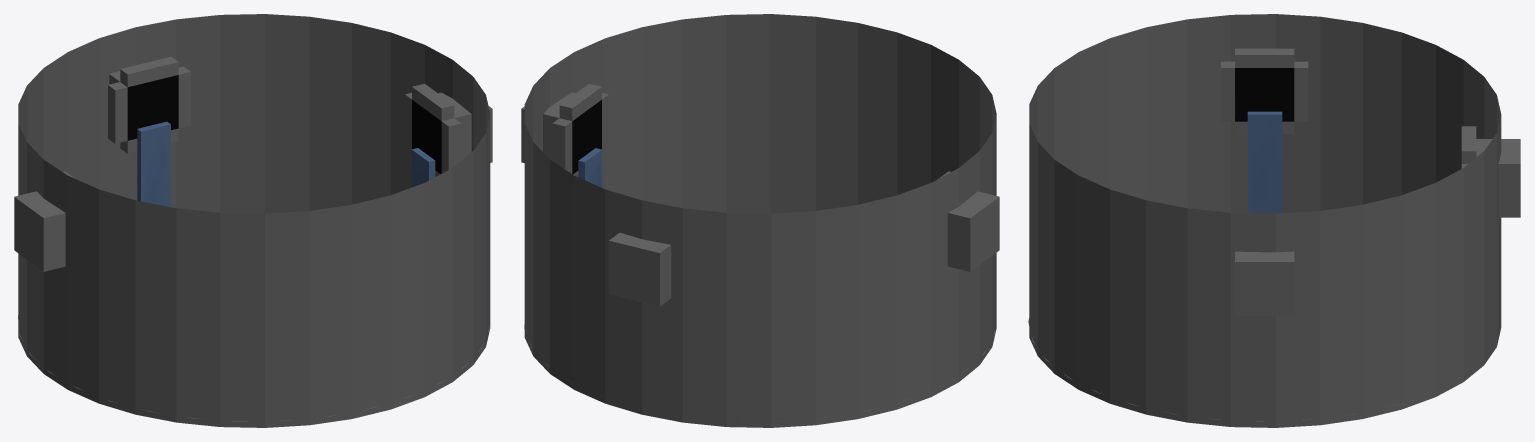
File: Sewer Boss Level.fbx
3 views of the same model, side by side, from view 1: azimuth 30°, elevation 25°; view 2: azimuth 150°, elevation 25°; view 3: azimuth 270°, elevation 25° (orthographic).
Visible parts, largest first — view 1: Cylinder, Cube.002, Cube, Cube.001, Cube.003, Cube.004; view 2: Cylinder, Cube, Cube.002, Cube.001, Cube.004; view 3: Cylinder, Cube.001, Cube, Cube.005, Cube.002.
Boxes of the visible parts, x1,y1,x2,y2 form: Cylinder: (18, 14, 490, 427); Cube.002: (108, 56, 190, 153); Cube: (405, 83, 492, 176); Cube.001: (14, 171, 75, 271); Cube.003: (137, 121, 170, 206); Cube.004: (411, 148, 435, 187); Cylinder: (524, 14, 996, 427); Cube: (521, 83, 608, 176); Cube.002: (608, 232, 671, 306); Cube.001: (938, 171, 999, 271); Cube.004: (578, 148, 601, 187); Cylinder: (1029, 14, 1501, 427); Cube.001: (1221, 48, 1308, 134); Cube: (1235, 251, 1294, 315); Cube.005: (1247, 111, 1282, 213); Cube.002: (1461, 126, 1520, 217).
Bounding box in the file's own units: 375 × 176 × 357.
